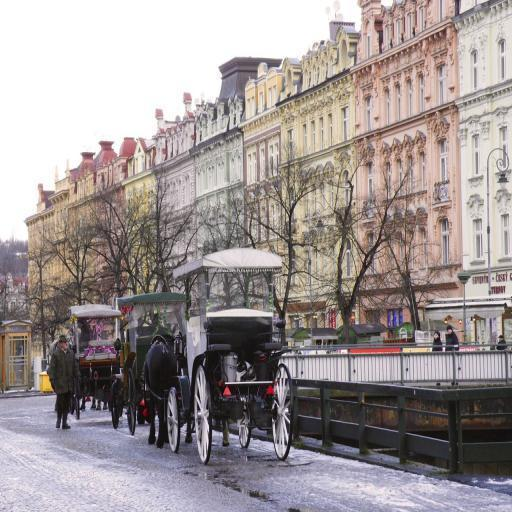horse: (180, 331, 231, 448), (142, 333, 178, 450), (44, 340, 90, 410), (90, 400, 108, 412)
